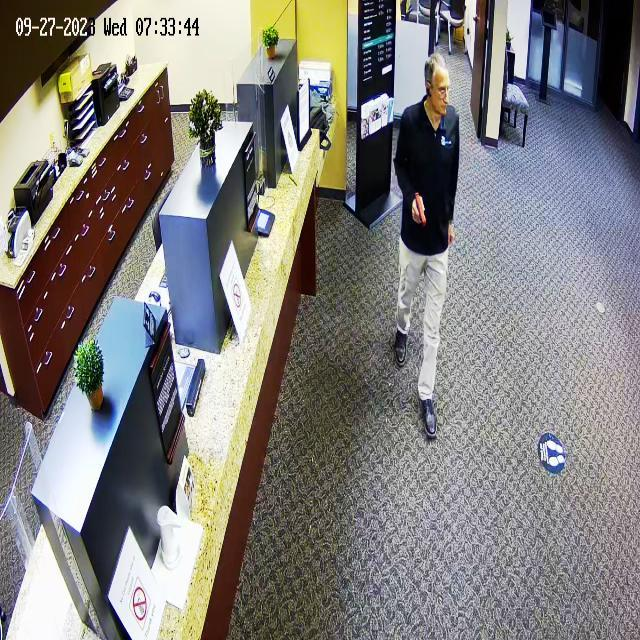Gun: (401, 192, 441, 242)
